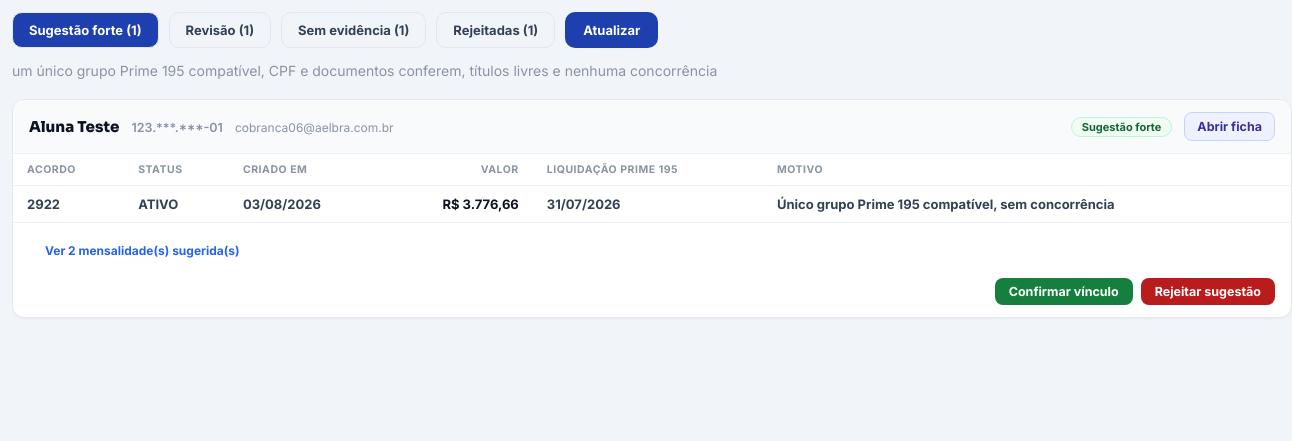
SugestoesVinculoAcordo › expande o cartao e mostra documento, vencimento, valor e liquidacao 195 das mensalidades sugeridas
Expected: the element with test id "sugestao-card" is shown, [12,99,1291,318]
Click the button "Ver 2 mensalidade(s) sugerida(s)". click: (142, 250)
box: [29,231,256,270]
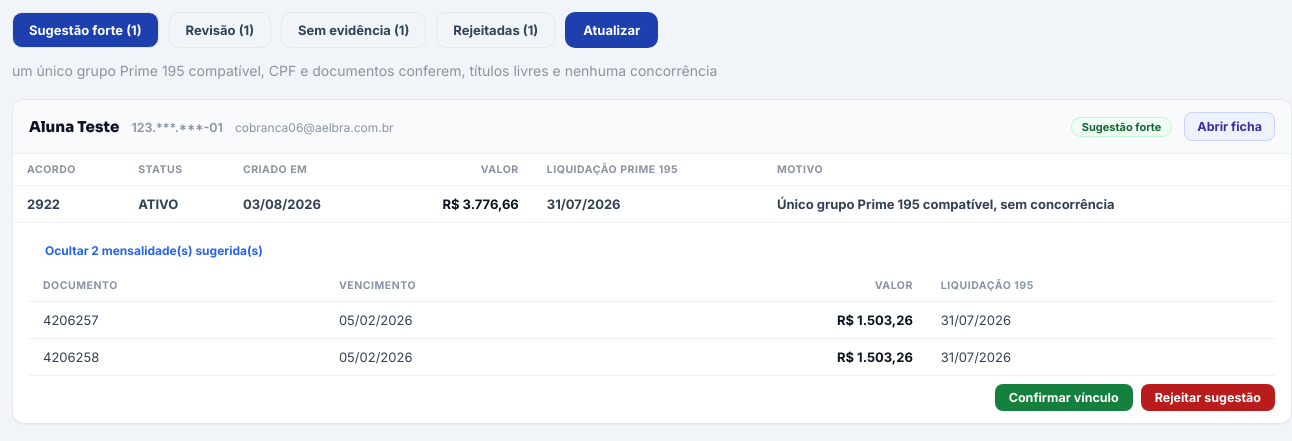
Expected: the table with test id "titulos-sugeridos" shows "4206257", [43,312,99,328]
Expected: the table with test id "titulos-sugeridos" shows "05/02/2026", [339,312,412,328]
Expected: the table with test id "titulos-sugeridos" shows "1.503,26", [837,312,913,328]
